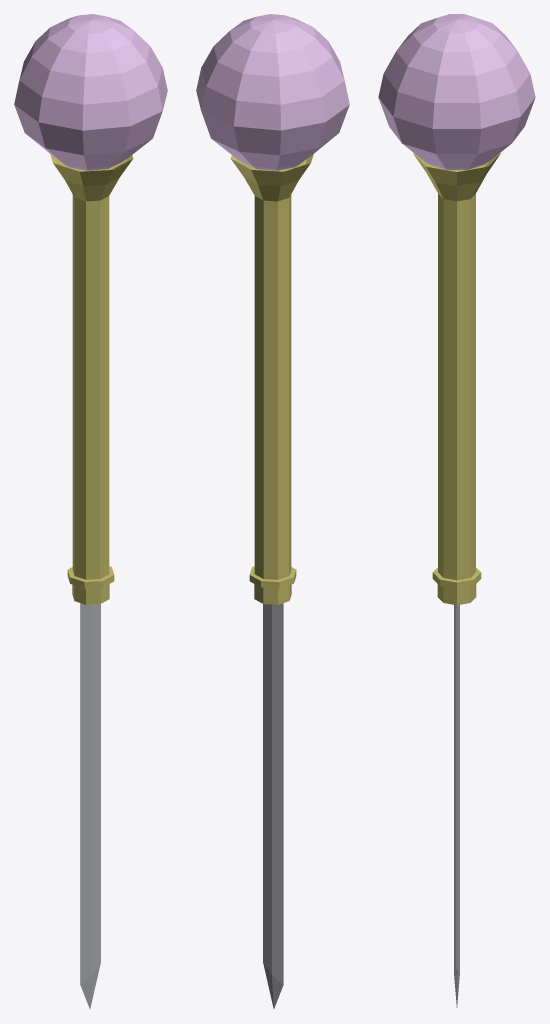
The model's file is celestial-lightbringer.glb.
The picture shows the model from 3 angles, left to right: view 1: azimuth 30°, elevation 25°; view 2: azimuth 150°, elevation 25°; view 3: azimuth 270°, elevation 25°; orthographic projection.
Parts seen in each view (by area): view 1: Staff_03_Cube; view 2: Staff_03_Cube; view 3: Staff_03_Cube.
Part boxes in pixels (left/top/right/bottom): Staff_03_Cube: left=14, top=14, right=167, bottom=1009; Staff_03_Cube: left=196, top=14, right=349, bottom=1009; Staff_03_Cube: left=378, top=14, right=535, bottom=1007.
Bounding box in the file's own units: 1.55 × 11.35 × 1.63.
